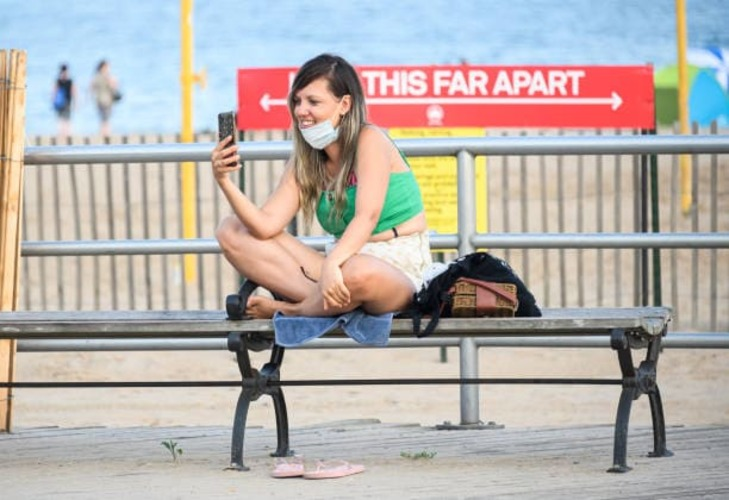with_incorrect_mask: (292, 85, 339, 146)
